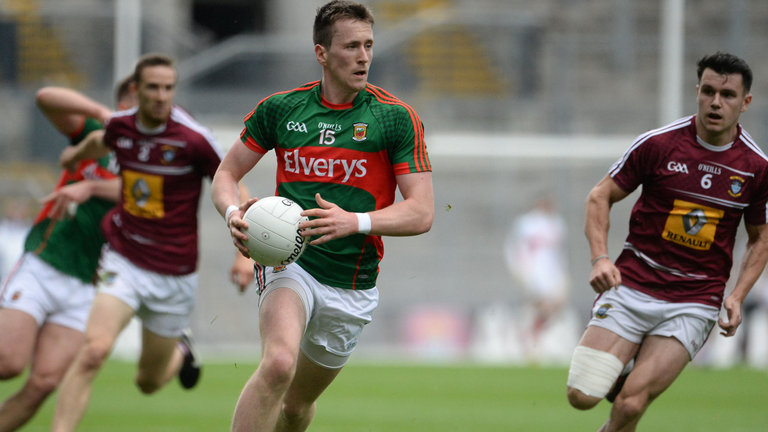ball: (238, 196, 304, 268)
player: (246, 2, 401, 419), (612, 34, 763, 408), (98, 62, 215, 389), (6, 34, 105, 408)
